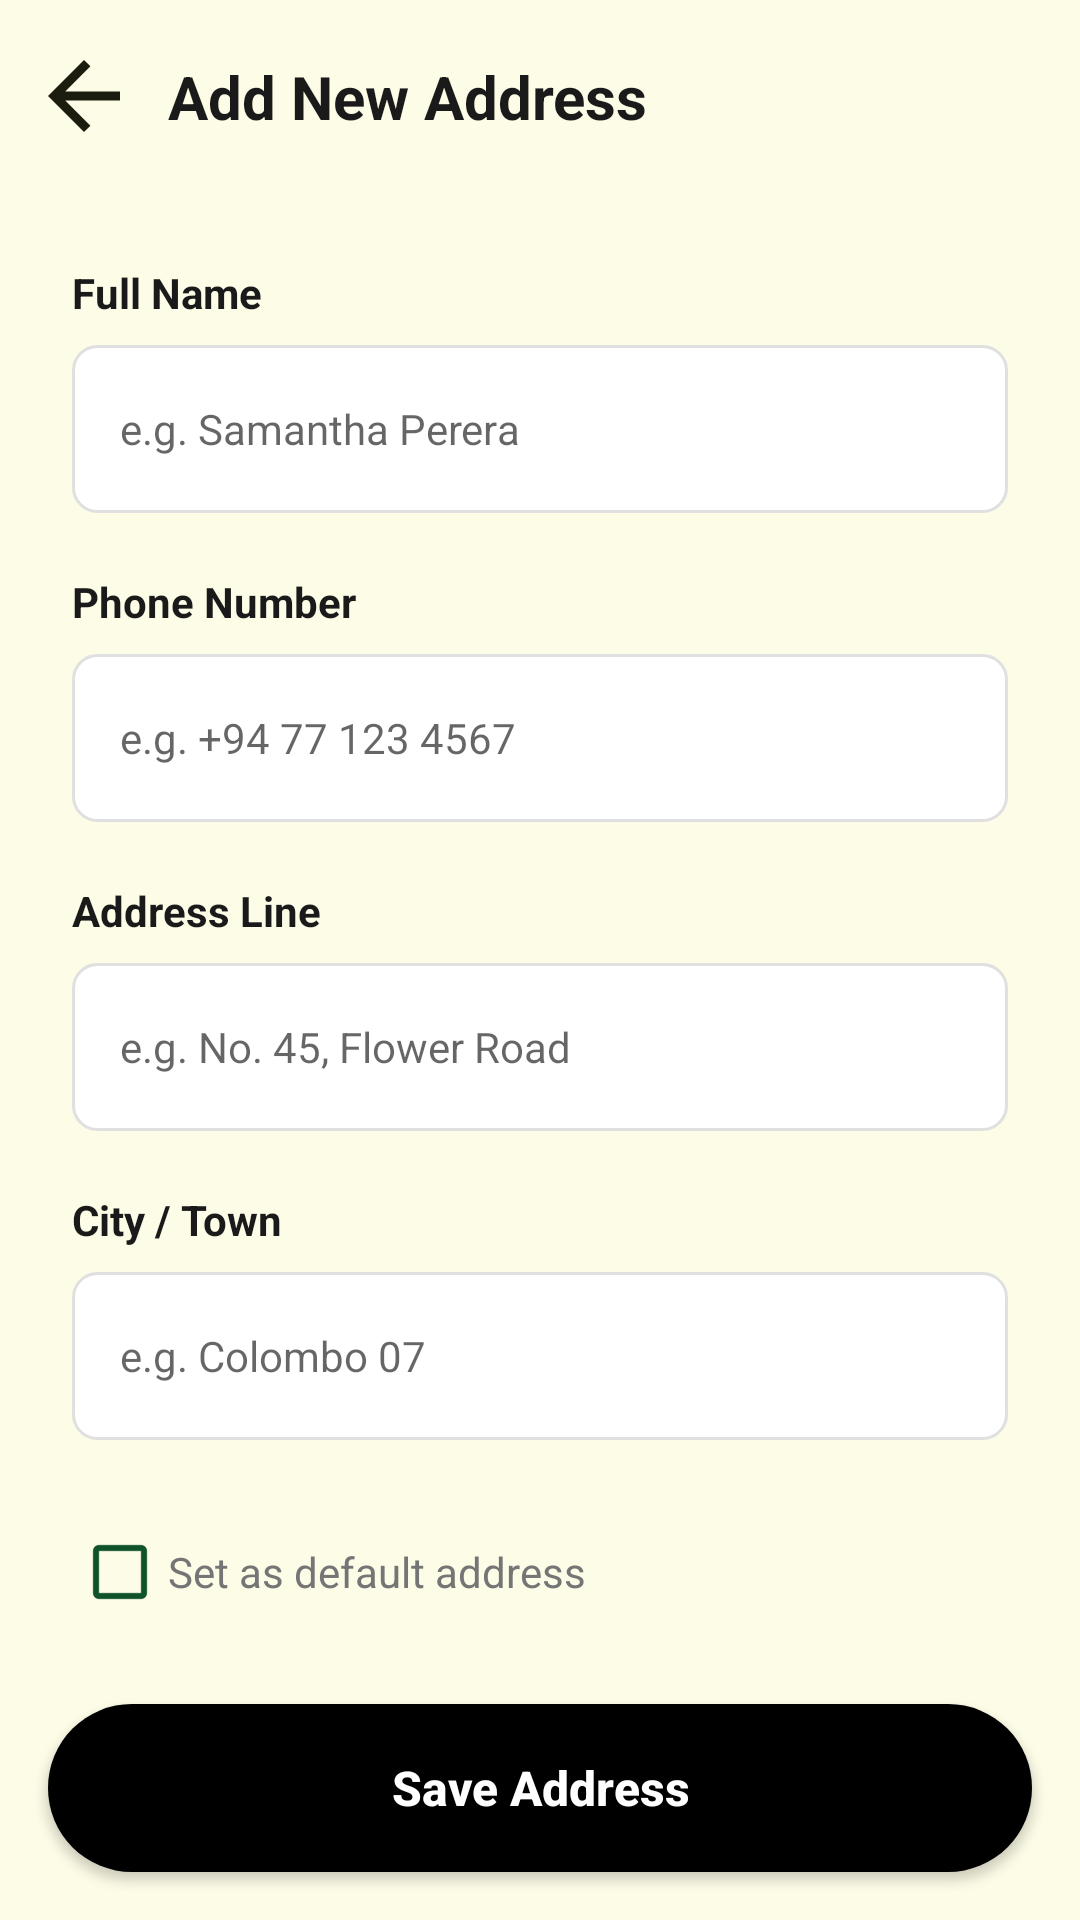

Screen size 1080×1920. Icon name, then its box in pixels as (x1, y1, x2, y2):
Back: (48, 60, 120, 132)
